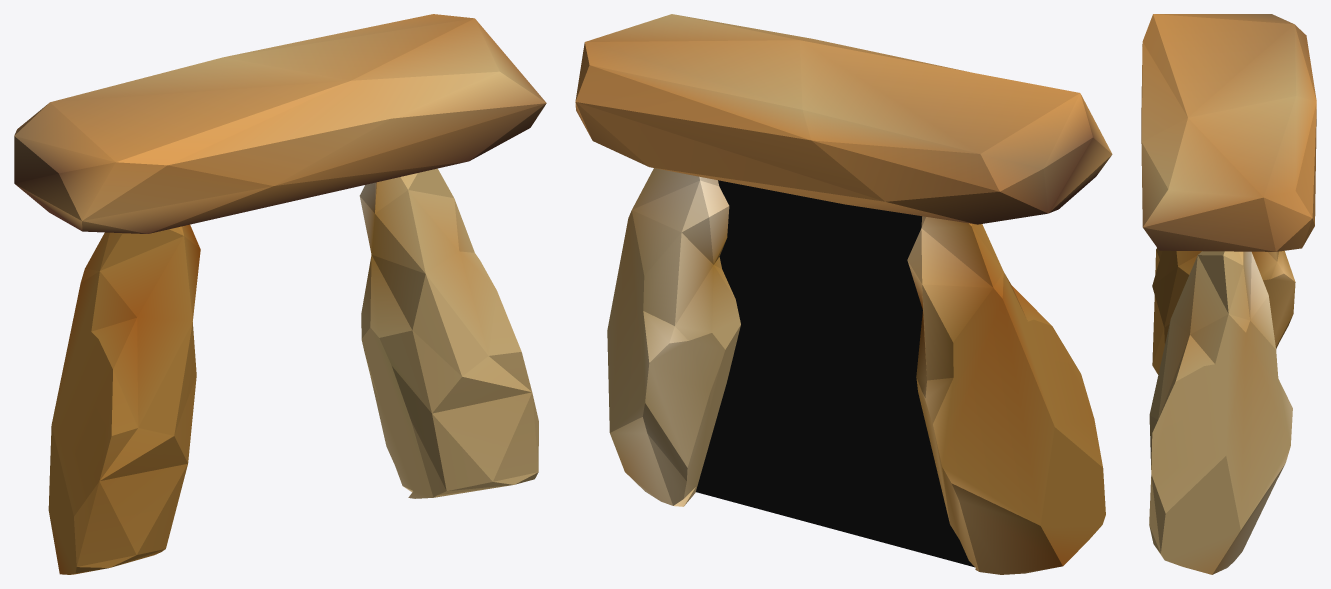
Rendered from portal.glb.
3 views of the same model, side by side, from view 1: azimuth 30°, elevation 25°; view 2: azimuth 150°, elevation 25°; view 3: azimuth 270°, elevation 25° (orthographic). The views are drawn at different scales.
Visible parts, largest first — view 1: Cube.003, Icosphere.003, Icosphere.004; view 2: Cube.003, Plane, Icosphere.004, Icosphere.003; view 3: Cube.003, Icosphere.003, Icosphere.004.
Boxes of the visible parts, <box> form: Cube.003: <box>14,14,546,233</box>; Icosphere.003: <box>359,168,538,498</box>; Icosphere.004: <box>48,224,200,574</box>; Cube.003: <box>575,14,1112,224</box>; Plane: <box>696,180,974,567</box>; Icosphere.004: <box>907,216,1105,574</box>; Icosphere.003: <box>607,168,740,506</box>; Cube.003: <box>1141,14,1316,251</box>; Icosphere.003: <box>1149,251,1292,574</box>; Icosphere.004: <box>1152,248,1295,374</box>.
Size of the model in its own units: 5.21 by 4.93 by 1.97.
3 materials, 2 textured.
